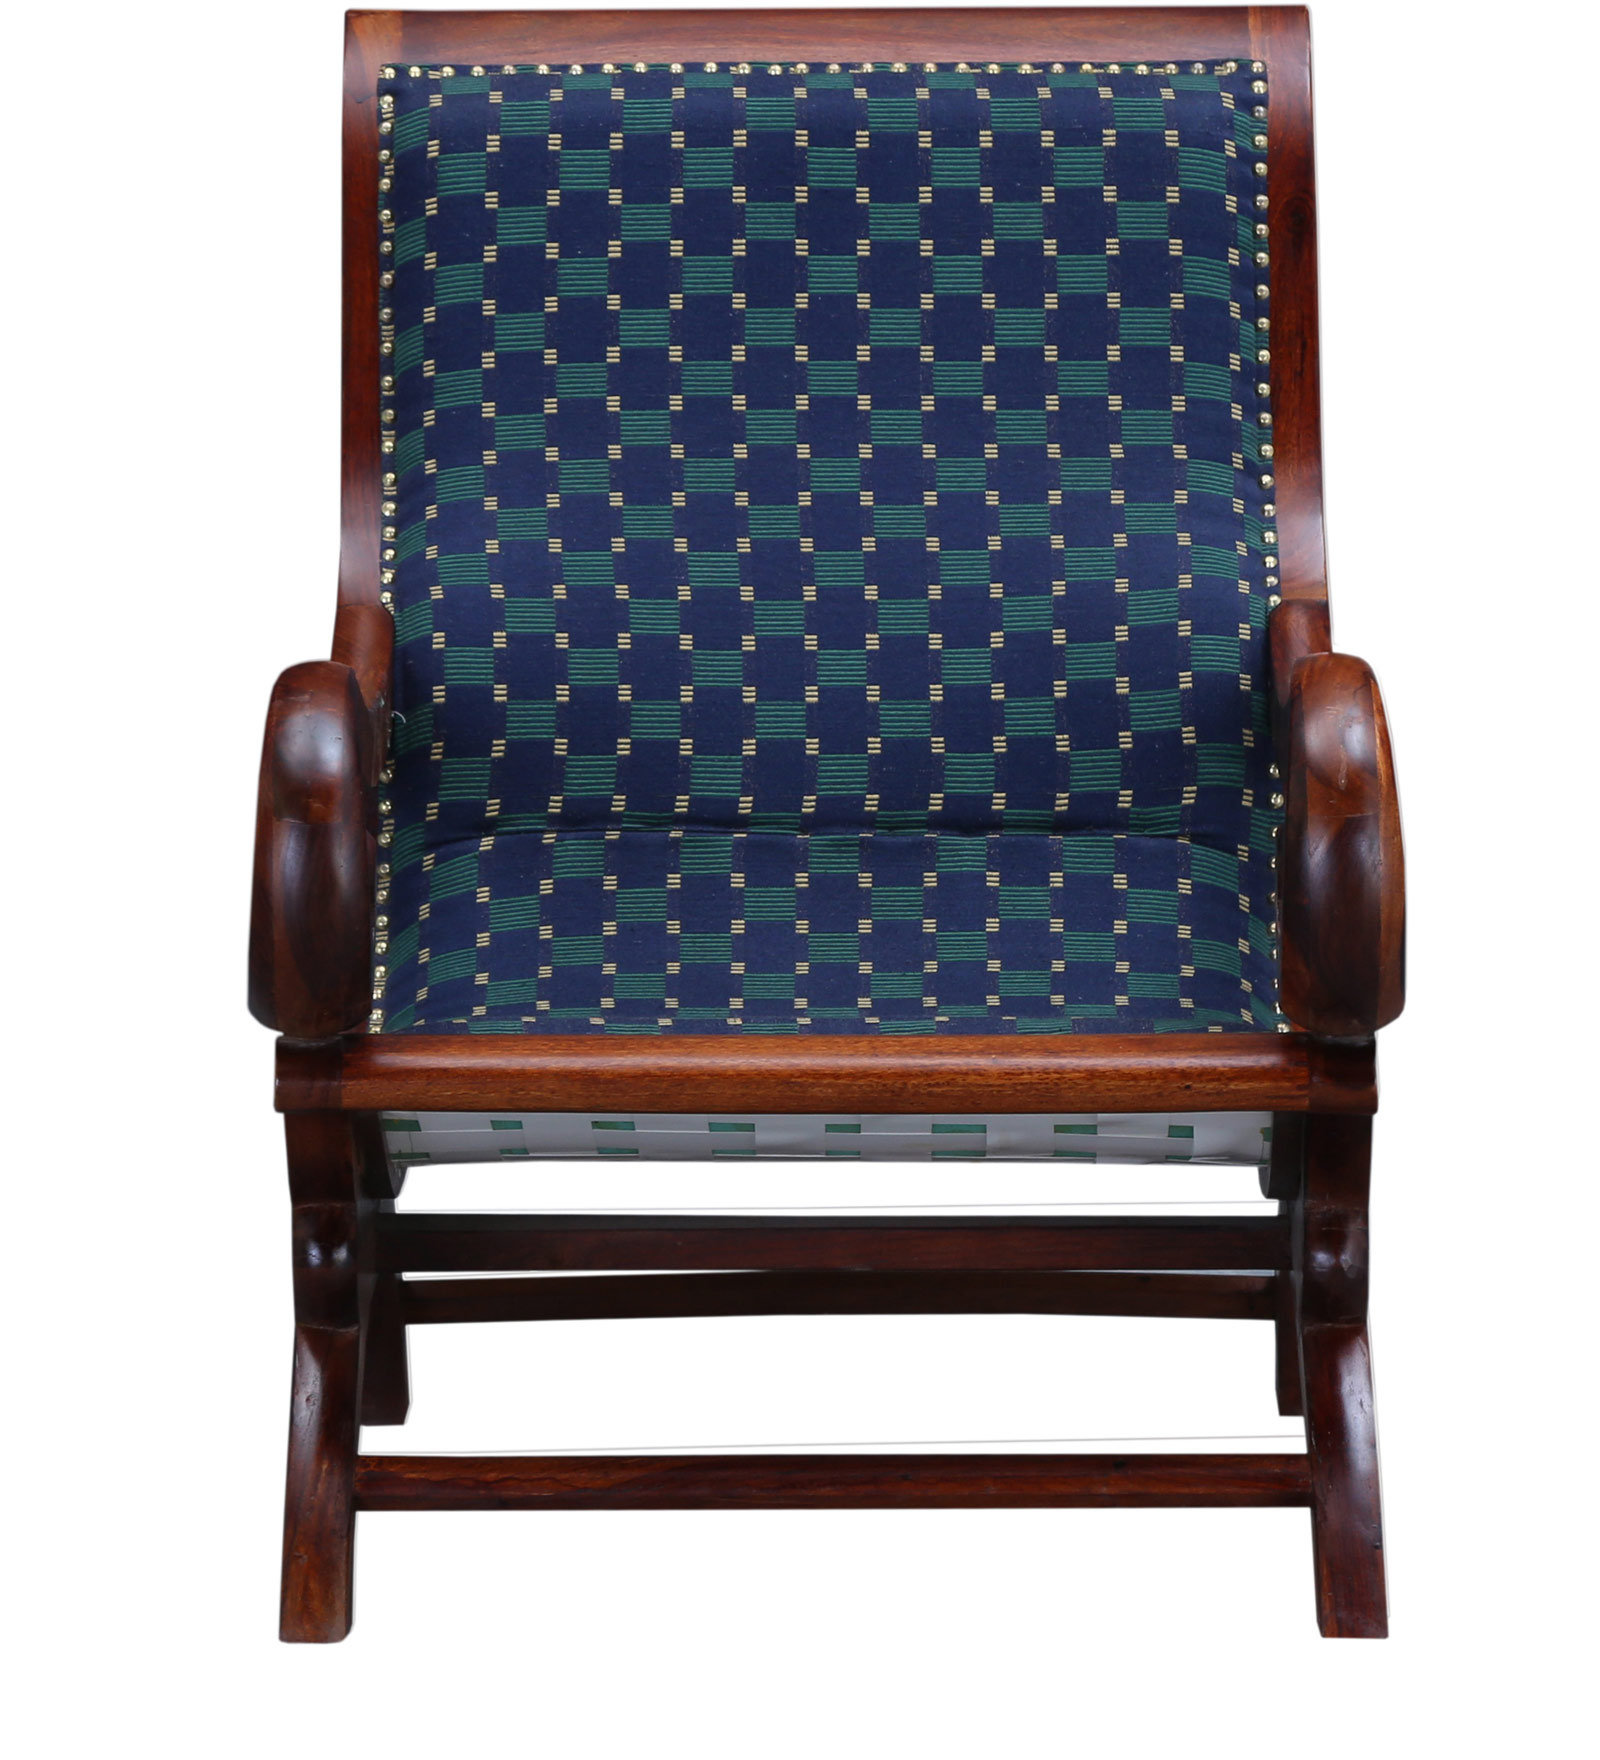Amherst Arm Chair in Honey Oak Finish by Amberville: (225, 9, 1441, 1670)
